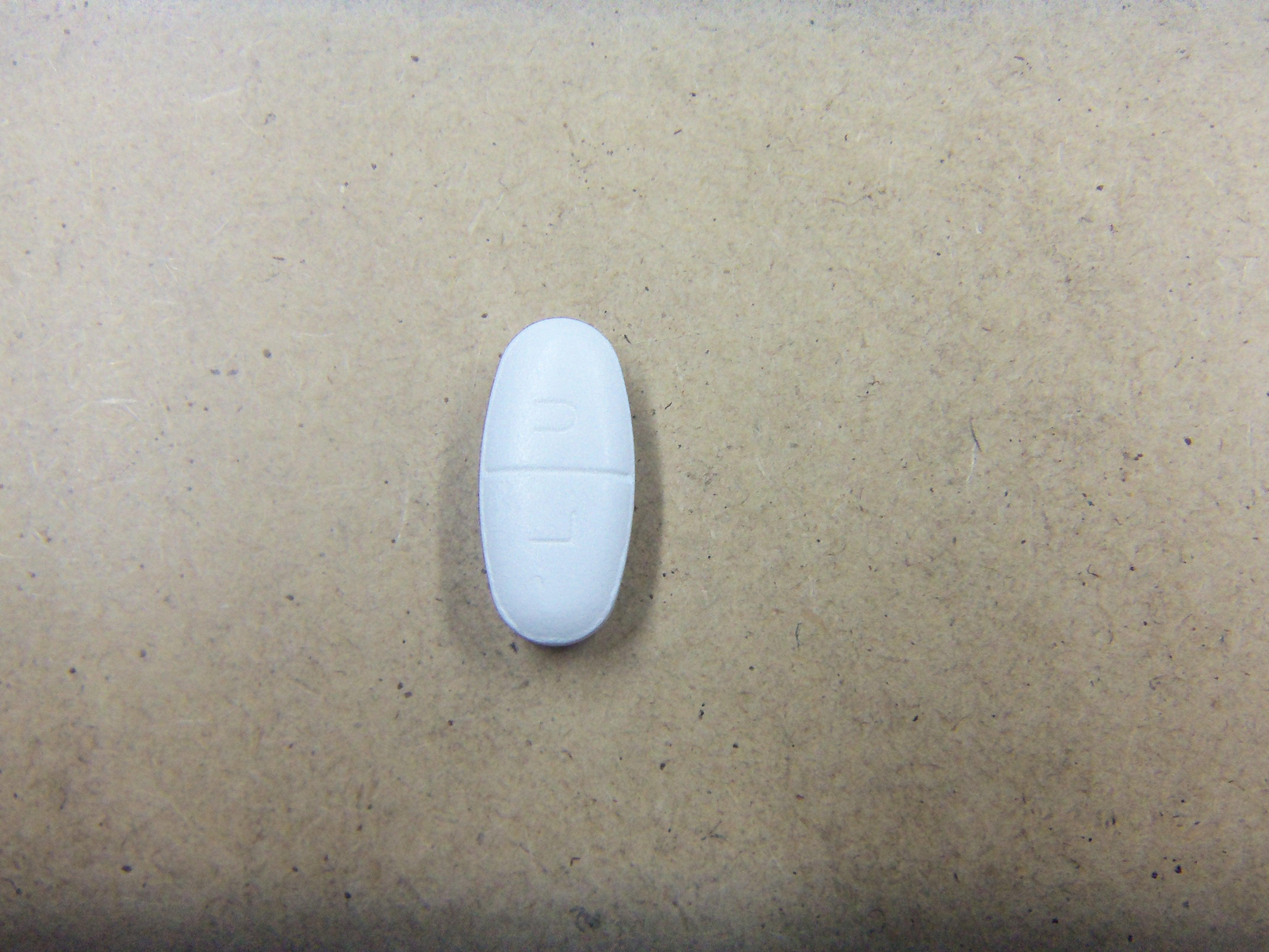Pill: (471, 308, 647, 657)
